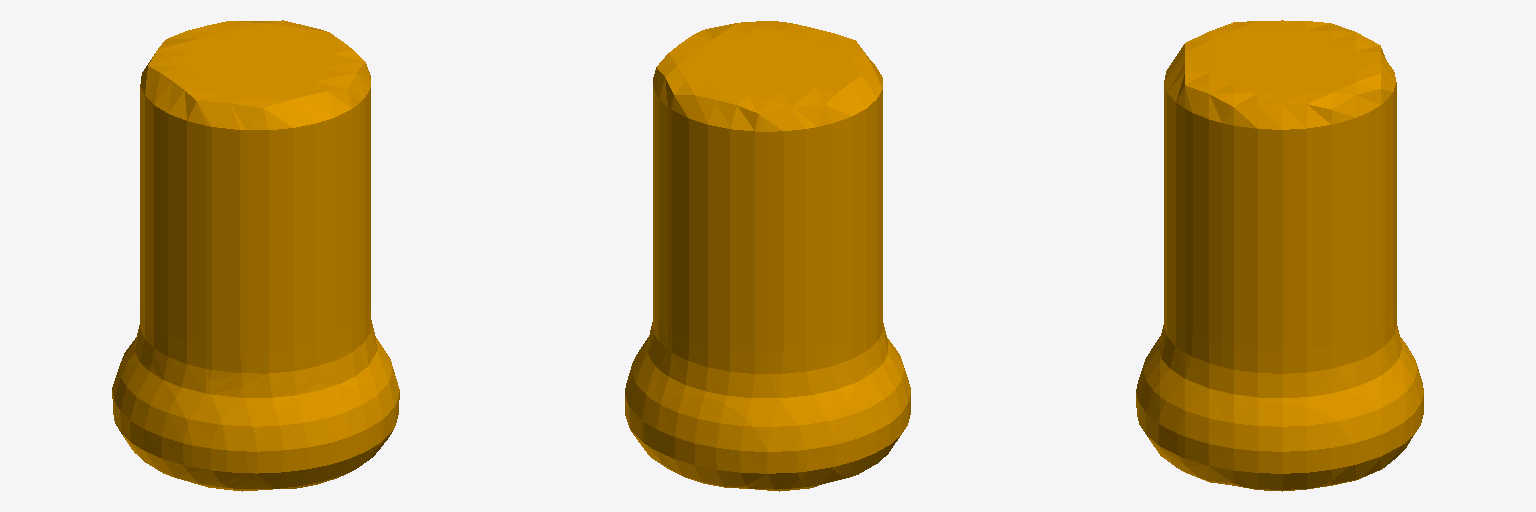
robot.urdf — cylinder_../../meshes/cylinders/cylinder_90.stl:
<?xml version="1.0" encoding="utf-8"?>  <robot name="cylinder_../../meshes/cylinders/cylinder_90.stl">   <link name="cylinder_../../meshes/cylinders/cylinder_90.stl">     <visual>       <geometry>         <mesh filename="../meshes/cylinders/cylinder_90.stl" scale="1 1 1"/>       </geometry>     </visual>     <collision>       <geometry>         <mesh filename="../meshes/cylinders/cylinder_90.stl" scale="1 1 1"/>       </geometry>     </collision>     <inertial>        <origin         xyz="0 0 0"         rpy="0 0 0" />       <mass value="0.16436745205457962"/>       <origin rpy="0 0 0" xyz="0 0 0"/>       <inertia ixx="0.0001302530187490928" ixy="-2.326038983686515e-09" ixz="-4.713430779831608e-08" iyy="0.00013025325796068817" iyz="-5.579314352416974e-08" izz="5.196659305363928e-05"/>     </inertial>   </link>  </robot>

--- Facts derived from the render (not from the file) ---
3 views of the same robot in one strip: view 1: azimuth 30°, elevation 25°; view 2: azimuth 150°, elevation 25°; view 3: azimuth 270°, elevation 25° (orthographic).
Model cylinder_../../meshes/cylinders/cylinder_90.stl with 1 links and 0 joints (none), rooted at cylinder_../../meshes/cylinders/cylinder_90.stl, posed every joint at zero.
Links seen in each view (by area): view 1: cylinder_../../meshes/cylinders/cylinder_90.stl; view 2: cylinder_../../meshes/cylinders/cylinder_90.stl; view 3: cylinder_../../meshes/cylinders/cylinder_90.stl.
Boxes of the visible links, left/top/right/bottom form: cylinder_../../meshes/cylinders/cylinder_90.stl: left=112, top=20, right=399, bottom=491; cylinder_../../meshes/cylinders/cylinder_90.stl: left=625, top=21, right=910, bottom=491; cylinder_../../meshes/cylinders/cylinder_90.stl: left=1136, top=20, right=1423, bottom=491.
Size in the robot's own frame: 0.0589 by 0.0589 by 0.0863 metres.
Meshes: 1 distinct files referenced, 1 mesh visuals loaded (1 binary STL).